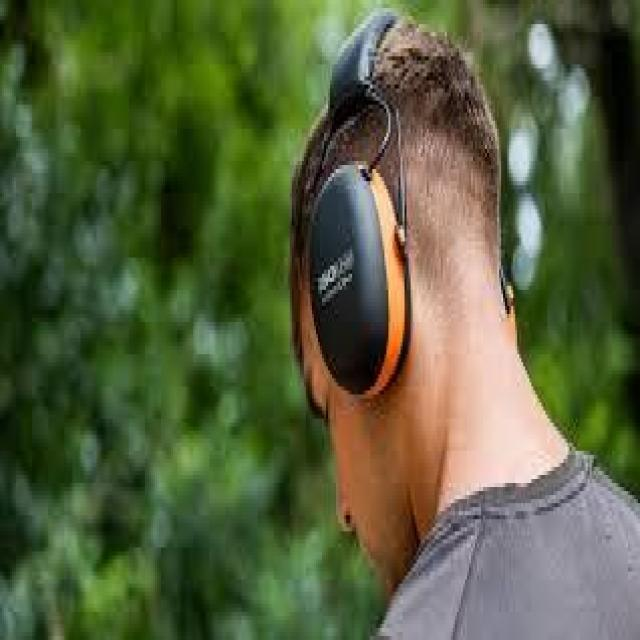Ear-protection: (302, 26, 518, 380)
